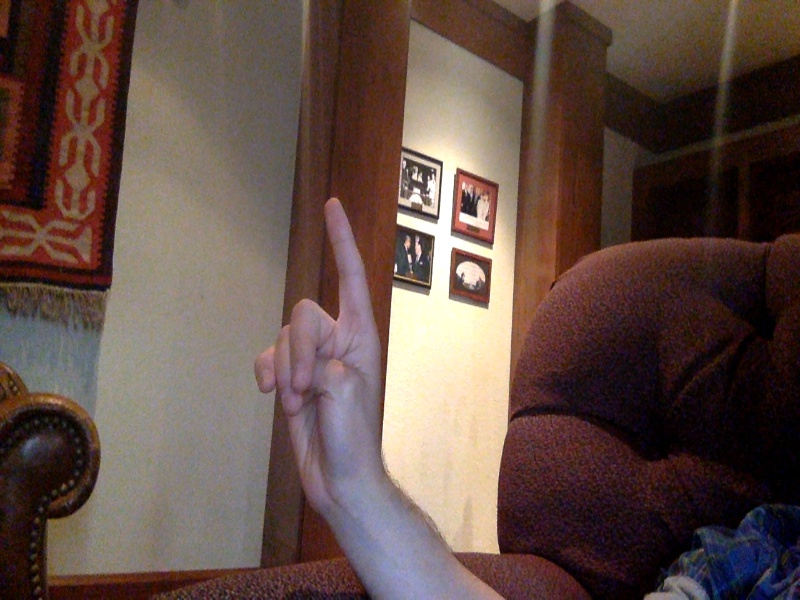1-hand: (255, 199, 385, 502)
